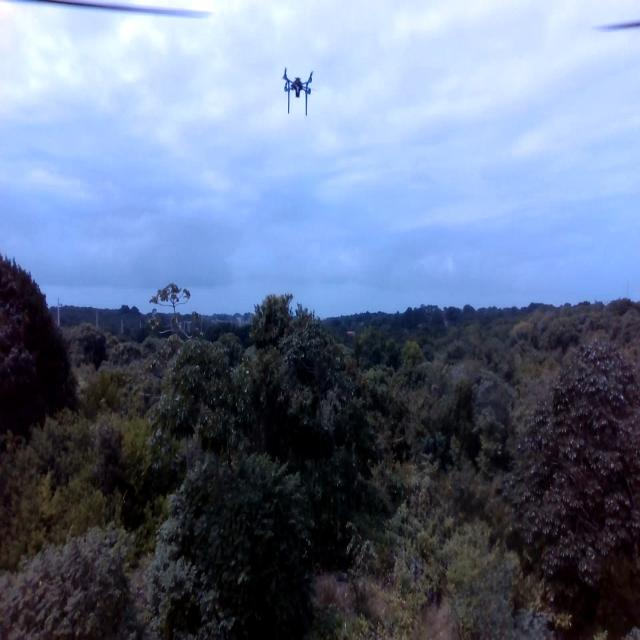-uav-: (278, 54, 324, 128)
